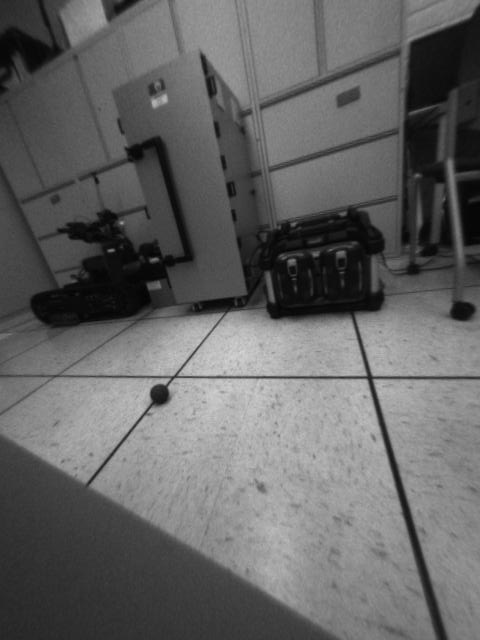dogtoy: (143, 377, 179, 413)
